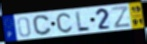0: (16, 16, 32, 38)
2: (94, 7, 114, 31)
C: (32, 14, 53, 36), (56, 12, 74, 33)
L: (75, 10, 91, 31)
Z: (111, 5, 132, 30)
